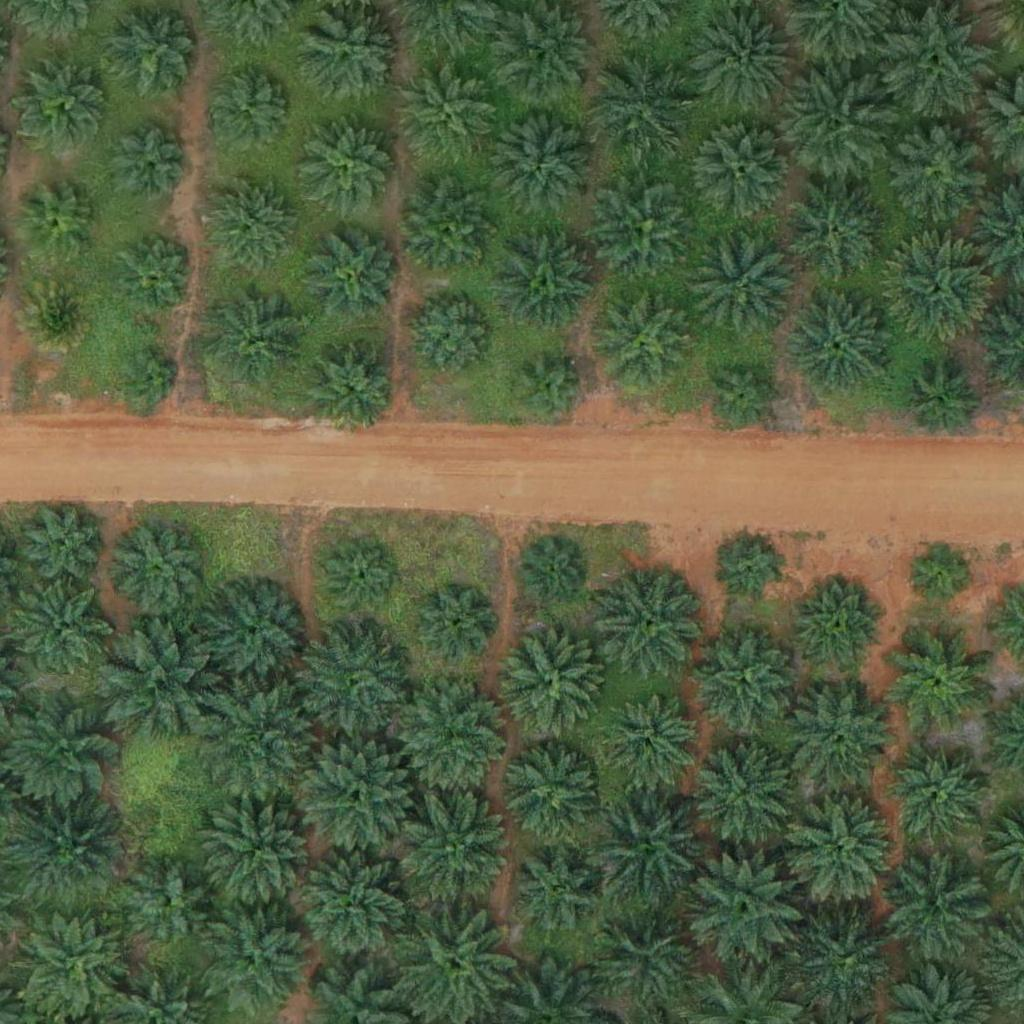Kelapa_Sawit: (95, 621, 220, 747), (198, 680, 323, 806), (292, 845, 417, 971), (393, 787, 518, 913), (584, 778, 709, 904), (583, 897, 708, 1023), (684, 847, 809, 973), (780, 790, 905, 915), (881, 4, 994, 118), (204, 798, 317, 912), (202, 903, 315, 1016), (396, 680, 509, 793), (299, 736, 411, 850), (883, 238, 995, 351), (778, 70, 890, 183), (11, 793, 123, 906), (294, 621, 406, 734), (786, 186, 886, 287), (790, 293, 890, 394), (692, 9, 792, 110), (693, 122, 793, 223), (693, 231, 793, 332), (592, 54, 692, 155), (594, 180, 694, 281), (594, 292, 694, 393), (500, 4, 600, 105), (494, 112, 594, 213), (495, 234, 595, 335), (401, 61, 501, 162), (400, 178, 500, 279), (299, 3, 399, 104), (298, 119, 398, 220), (501, 630, 601, 731), (500, 745, 600, 846), (603, 571, 703, 672), (597, 692, 697, 793), (694, 628, 794, 729), (694, 740, 794, 841), (789, 685, 889, 786), (797, 912, 897, 1013), (891, 632, 991, 733), (886, 747, 986, 848), (887, 861, 987, 962), (887, 126, 987, 226), (301, 336, 401, 436), (207, 286, 307, 386), (12, 578, 112, 678), (202, 584, 302, 684), (507, 841, 607, 941), (406, 292, 494, 380), (20, 63, 108, 151), (126, 859, 214, 947), (311, 232, 398, 320), (205, 63, 292, 151), (207, 175, 294, 263), (110, 12, 197, 100), (18, 499, 105, 587), (112, 525, 199, 613), (800, 581, 887, 669), (20, 188, 95, 264), (110, 127, 185, 203), (323, 542, 398, 618), (512, 351, 587, 427), (117, 236, 192, 312), (21, 277, 96, 353), (420, 586, 495, 661), (904, 365, 979, 440), (708, 359, 783, 434), (521, 540, 584, 603), (119, 349, 181, 412), (721, 538, 783, 601), (907, 539, 969, 602)
